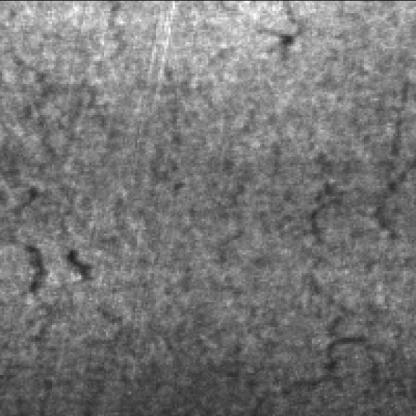crazing: (164, 46, 283, 412), (4, 38, 117, 320), (312, 79, 416, 341), (289, 308, 412, 414)
